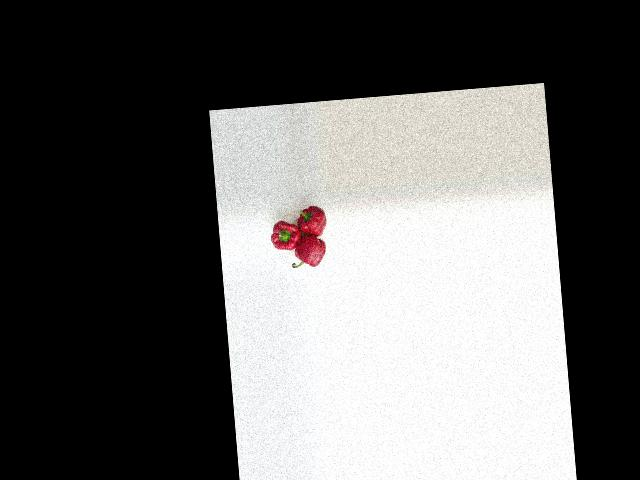bell_pepper: (288, 235, 329, 276)
